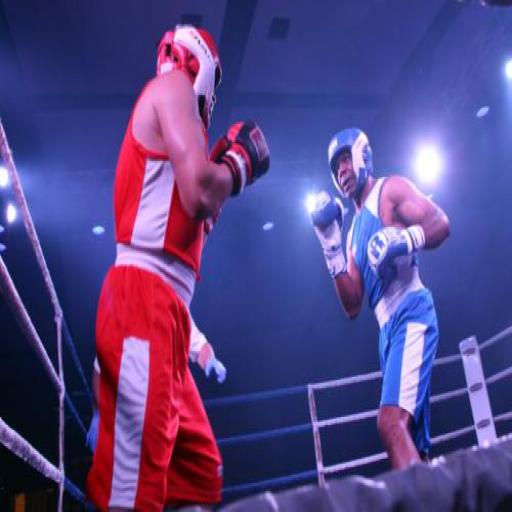boxing: (84, 21, 270, 510), (308, 124, 451, 472)
